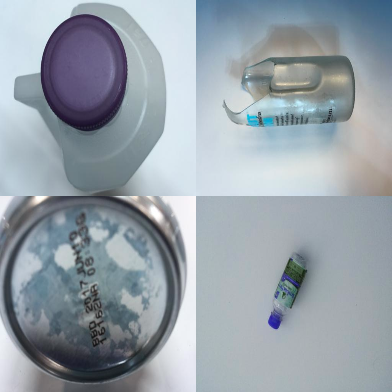glass: (221, 56, 357, 126)
metal: (1, 196, 186, 384)
plastic: (13, 3, 167, 192), (267, 252, 308, 329)
